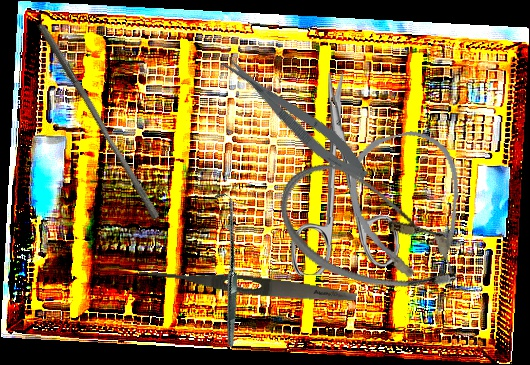Cannula: (264, 153, 479, 309), (337, 122, 482, 295)
Dressing Forceps: (137, 264, 358, 307)
Hook Surgical: (147, 189, 305, 348)
Iris Scissors: (284, 71, 401, 276)
Micro Scissor: (216, 45, 375, 189)
Pusher: (29, 21, 168, 222)
